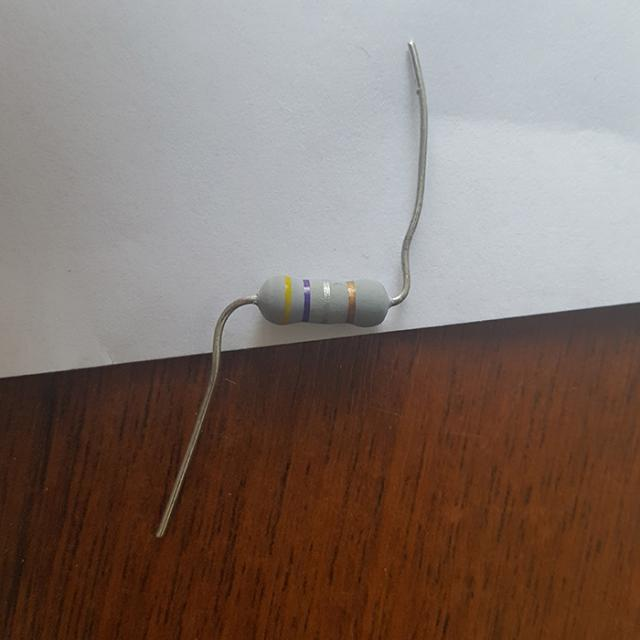Resistor Carbon-Film: (256, 274, 392, 333)
